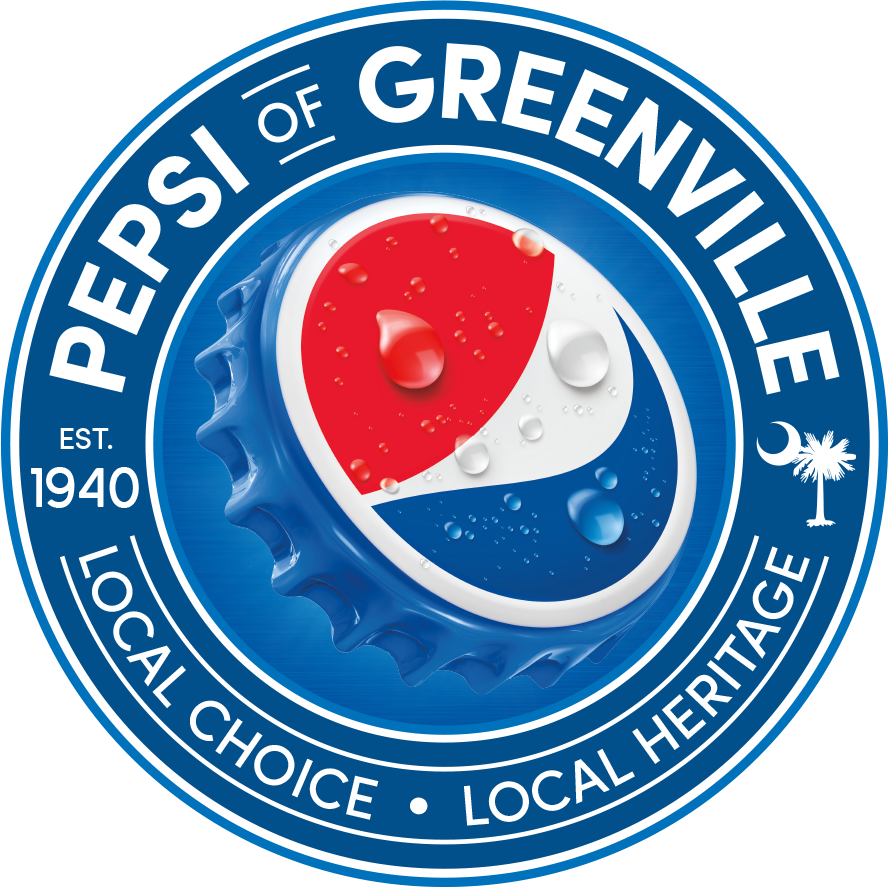pepsi: (267, 192, 697, 633), (274, 192, 697, 633), (267, 220, 697, 633)
